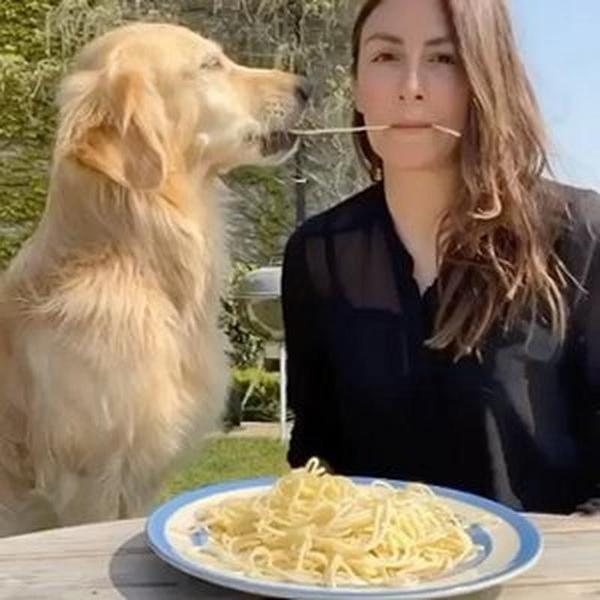allqu: (5, 20, 321, 520)
